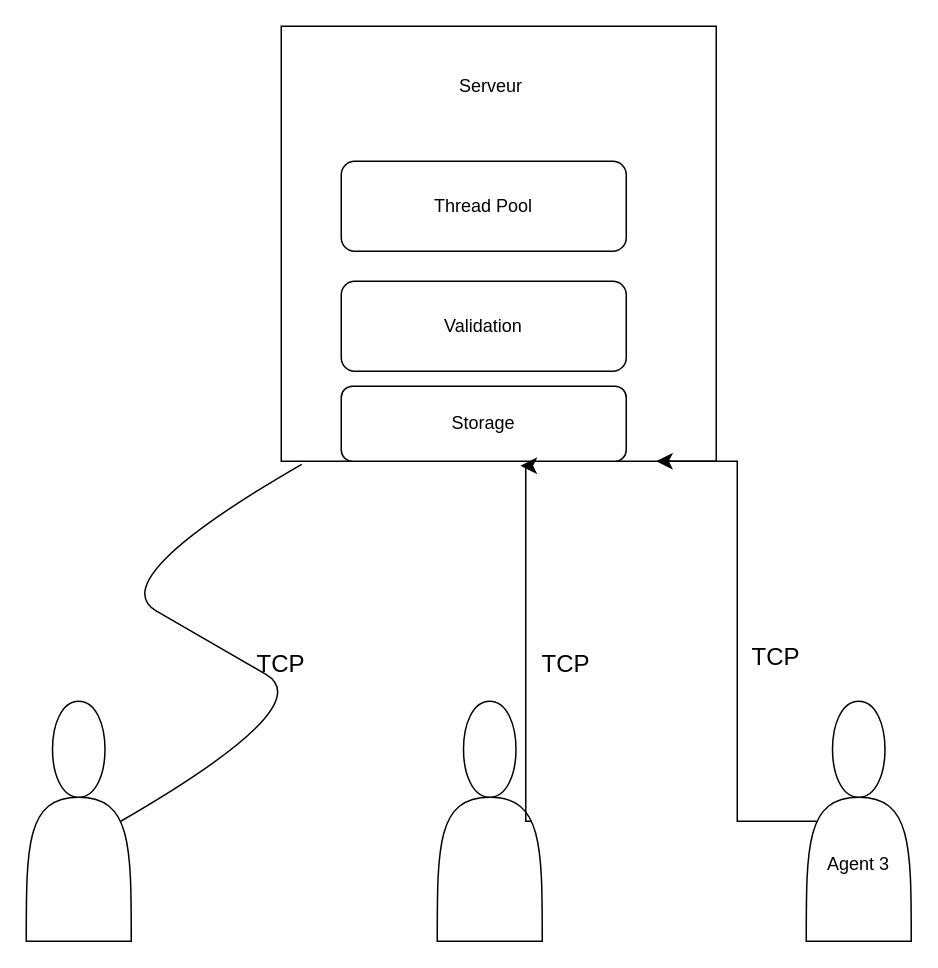
Some shapes in this 938 by 968 pixel diagram are drawn without their labels. The centre of each missing label's shape, as x and y in pixels:
Agent 1: (78,820)
Agent 2: (489,820)
